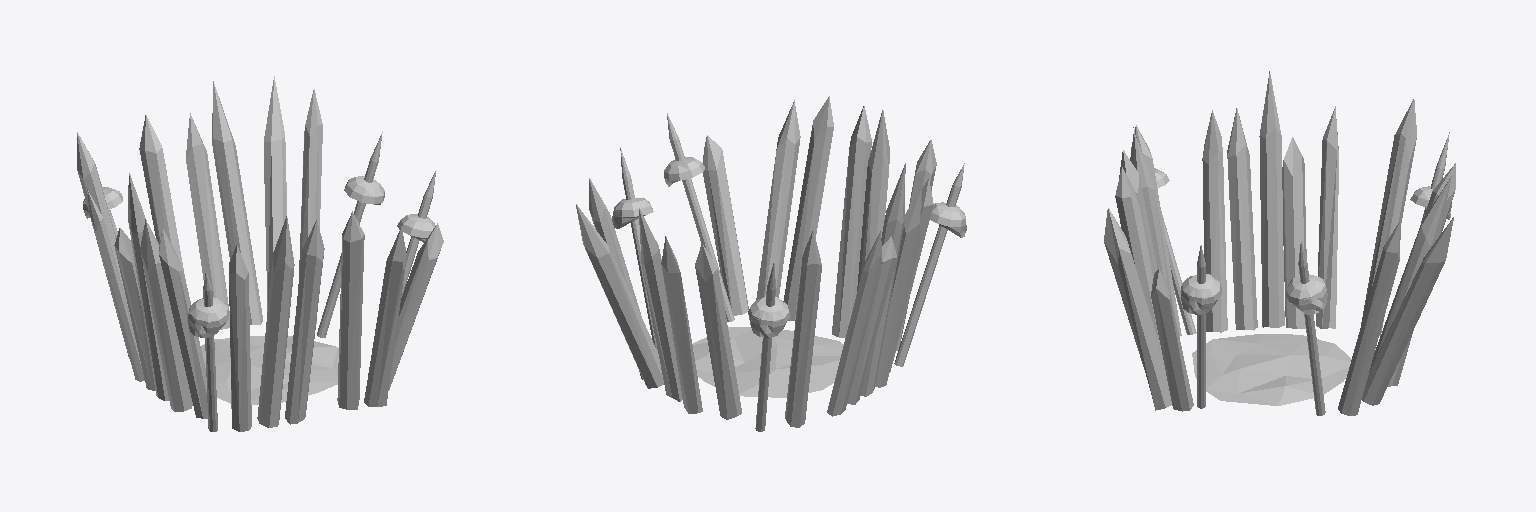
The model's file is FortBed2x2.obj.
3 views of the same model, side by side, from view 1: azimuth 30°, elevation 25°; view 2: azimuth 150°, elevation 25°; view 3: azimuth 270°, elevation 25° (orthographic).
Parts seen in each view (by area): view 1: Cylinder.022_Cylinder.023; view 2: Cylinder.022_Cylinder.023; view 3: Cylinder.022_Cylinder.023.
Part boxes in pixels (x1,y1,x2,y2): Cylinder.022_Cylinder.023: (77,76,443,431); Cylinder.022_Cylinder.023: (576,96,966,431); Cylinder.022_Cylinder.023: (1104,71,1455,415).
Bounding box in the file's own units: 4.75 × 3.92 × 5.14.